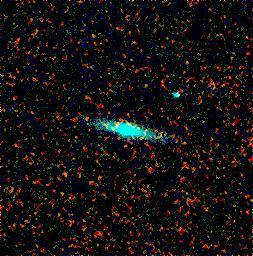star: (196, 192, 226, 222)
